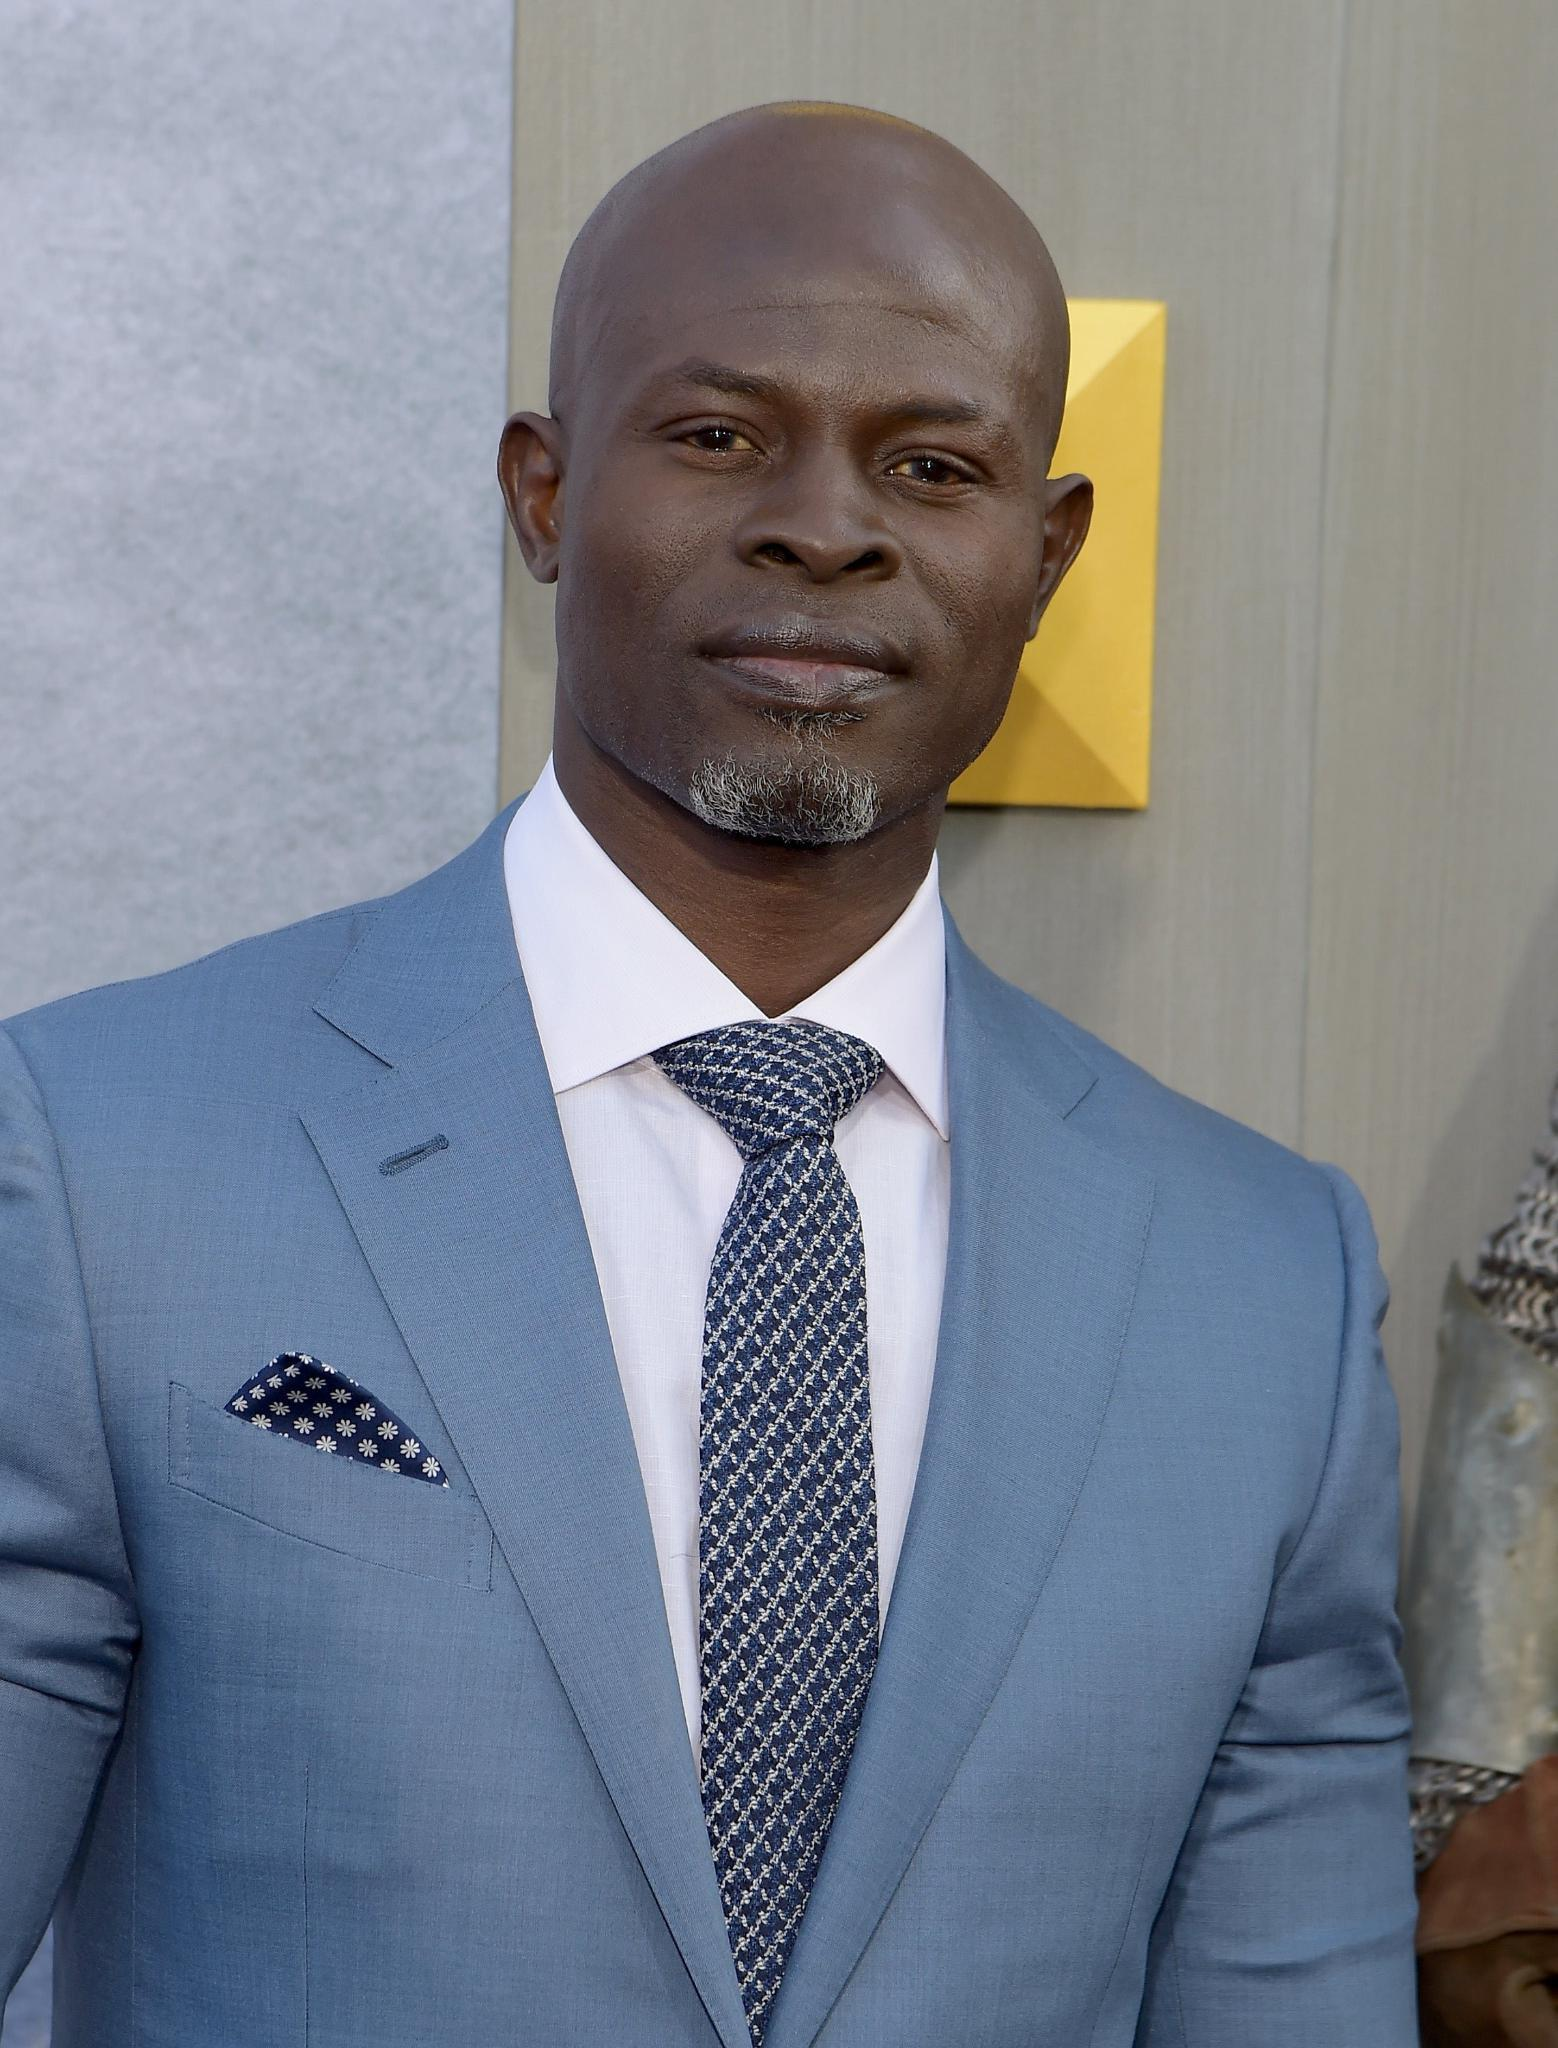Sober: (532, 191, 1064, 821)
